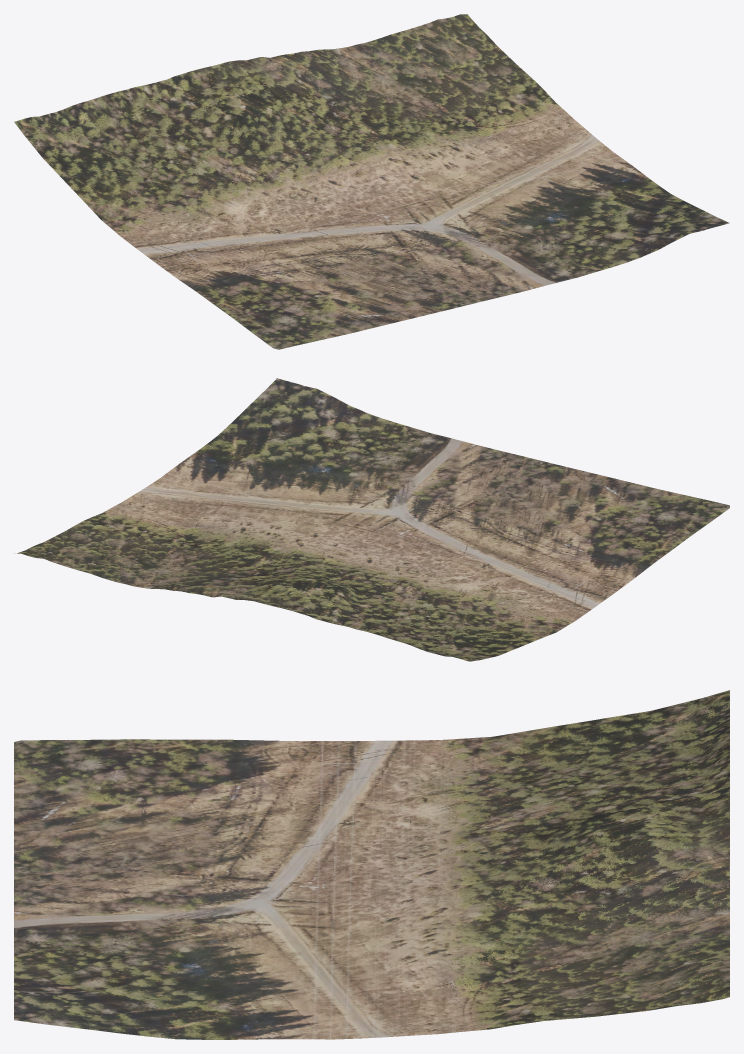
File: CM_Terrain_24490663_6816517.fbx
3 views of the same model, one above another, from view 1: azimuth 30°, elevation 25°; view 2: azimuth 150°, elevation 25°; view 3: azimuth 270°, elevation 25° (orthographic). The views are drawn at different scales.
Parts seen in each view (by area): view 1: CM_Terrain_24490663_6816517_LOD0; view 2: CM_Terrain_24490663_6816517_LOD0; view 3: CM_Terrain_24490663_6816517_LOD0.
Part boxes in pixels (x1=…): CM_Terrain_24490663_6816517_LOD0: x1=14, y1=14, x2=729, y2=349; CM_Terrain_24490663_6816517_LOD0: x1=14, y1=378, x2=729, y2=661; CM_Terrain_24490663_6816517_LOD0: x1=14, y1=690, x2=729, y2=1039.
Size of what is drawn, in the model's own units: 205 by 19.87 by 205.
